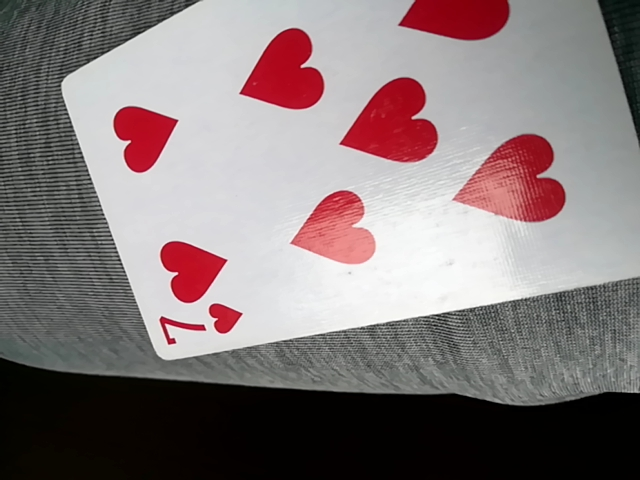hx 7: (54, 4, 639, 356)
